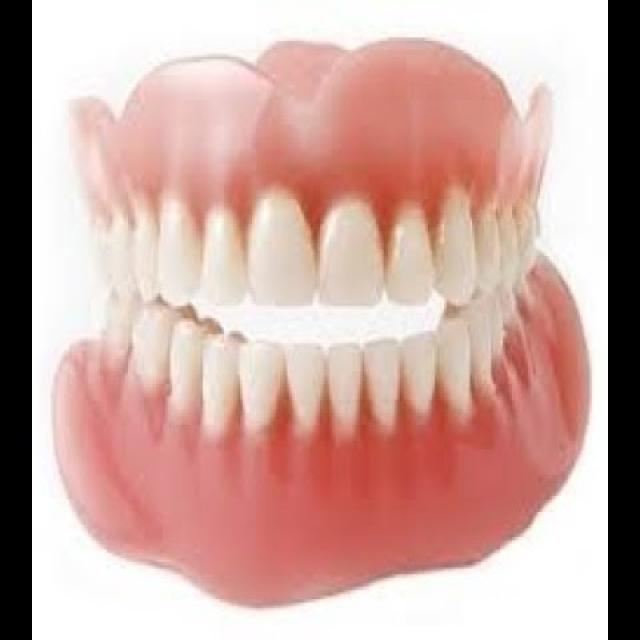tooth: (244, 204, 316, 297), (316, 204, 380, 298), (380, 197, 433, 299), (155, 206, 201, 297), (434, 198, 474, 300), (237, 334, 284, 416), (203, 206, 244, 297), (132, 318, 184, 386), (205, 334, 238, 438), (442, 326, 474, 398), (473, 214, 499, 300), (180, 315, 199, 430), (128, 217, 155, 297), (334, 340, 358, 420), (296, 350, 320, 412), (410, 338, 434, 398), (376, 341, 393, 423), (104, 217, 128, 272), (499, 214, 513, 278)
